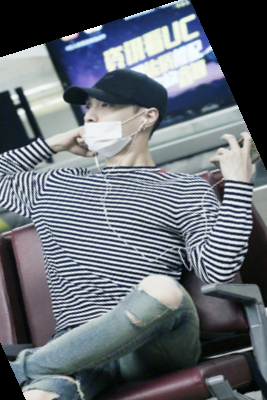mask_weared_incorrect: (57, 67, 177, 160)
